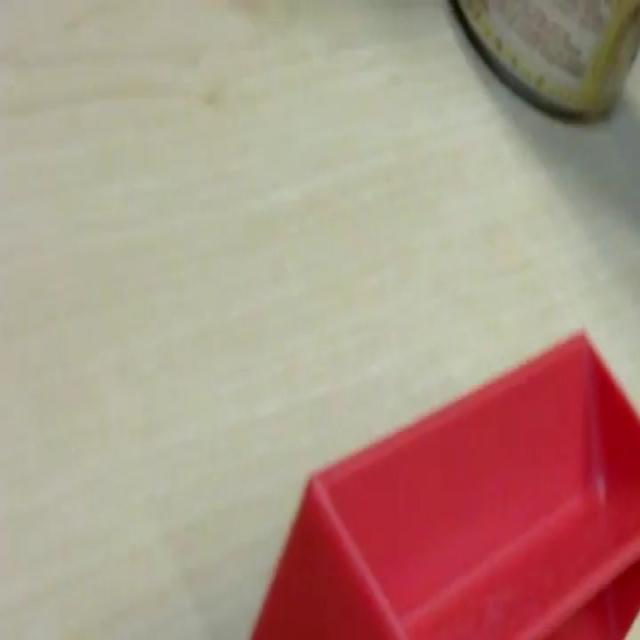red_block: (249, 326, 639, 638)
